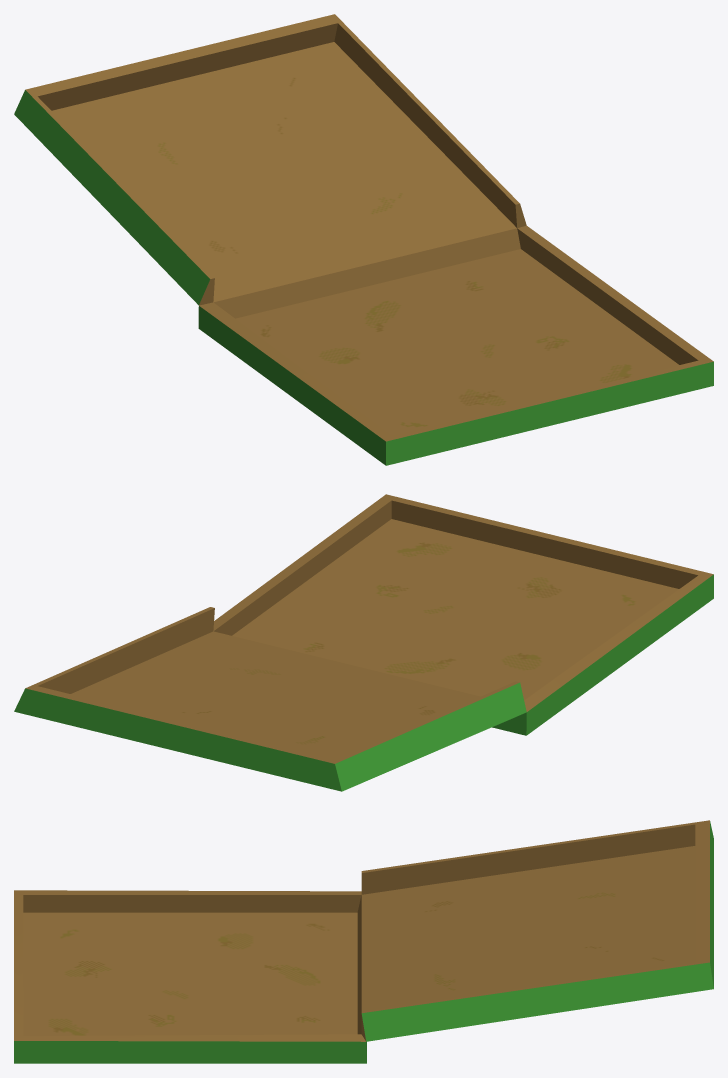
File: pizza box.fbx
3 renders of one model, top to bottom at view 1: azimuth 30°, elevation 25°; view 2: azimuth 150°, elevation 25°; view 3: azimuth 270°, elevation 25°, orthographic. The views are drawn at different scales.
Visible parts, largest first — view 1: pCube5; view 2: pCube5; view 3: pCube5.
Part boxes in pixels (x1=…): pCube5: x1=14, y1=14, x2=713, y2=465; pCube5: x1=14, y1=494, x2=713, y2=791; pCube5: x1=14, y1=820, x2=713, y2=1063.
Size of the model in its own units: 1.44 by 0.4335 by 2.83.
1 material, 1 textured.
